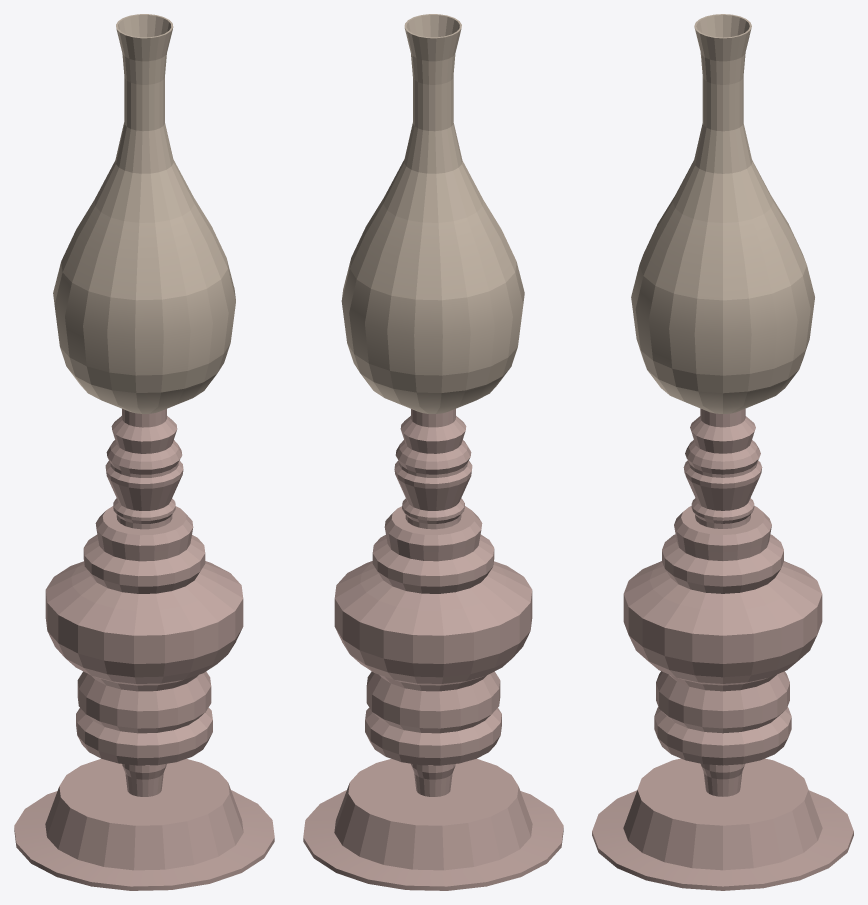
Rendered from lampara de gas.fbx.
The picture shows the model from 3 angles, left to right: view 1: azimuth 30°, elevation 25°; view 2: azimuth 150°, elevation 25°; view 3: azimuth 270°, elevation 25°; orthographic projection.
Visible parts, largest first — view 1: pCylinder1, pCylinder2; view 2: pCylinder1, pCylinder2; view 3: pCylinder1, pCylinder2.
Boxes of the visible parts, box(x1,y1,x2,y2) form: pCylinder1: box(14, 409, 274, 890); pCylinder2: box(53, 14, 235, 413); pCylinder1: box(303, 409, 563, 890); pCylinder2: box(341, 14, 524, 413); pCylinder1: box(592, 408, 853, 890); pCylinder2: box(631, 14, 814, 413).
Size of the model in its own units: 26.81 by 91.45 by 26.81.
